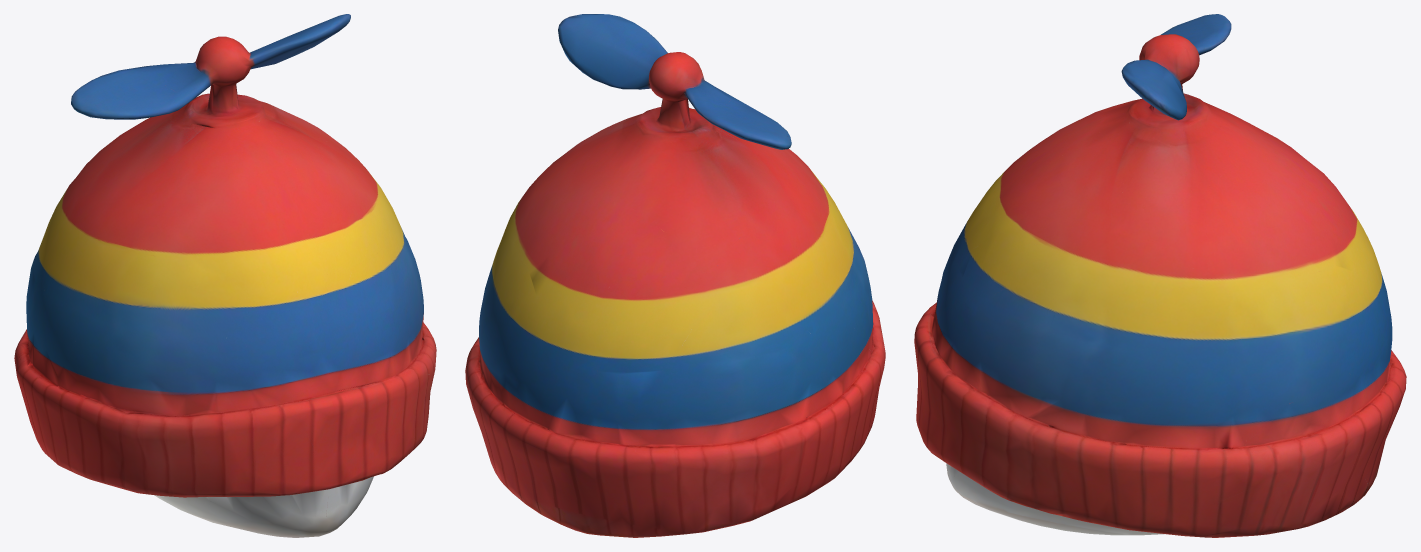
Rendered from propeller_beanie.glb.
3 views of the same model, side by side, from view 1: azimuth 30°, elevation 25°; view 2: azimuth 150°, elevation 25°; view 3: azimuth 270°, elevation 25° (orthographic). The views are drawn at different scales.
Size of the model in its own units: 1.69 by 2 by 1.88.
1 material, 1 textured.
